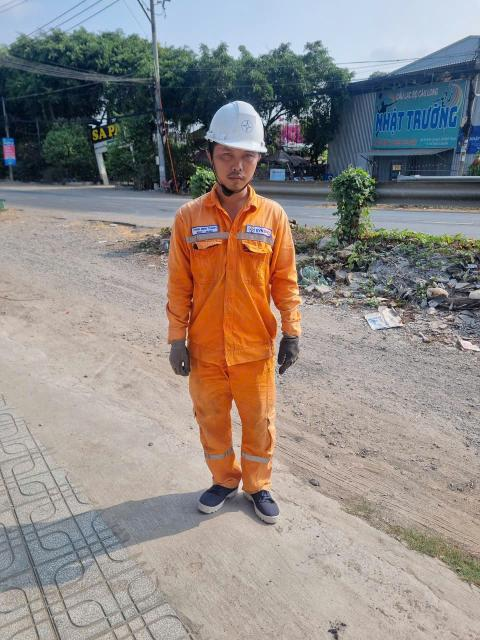gloves: (257, 324, 310, 378), (155, 333, 211, 384)
helmet: (200, 86, 289, 168)
shoes: (176, 466, 248, 524), (244, 483, 288, 525)
